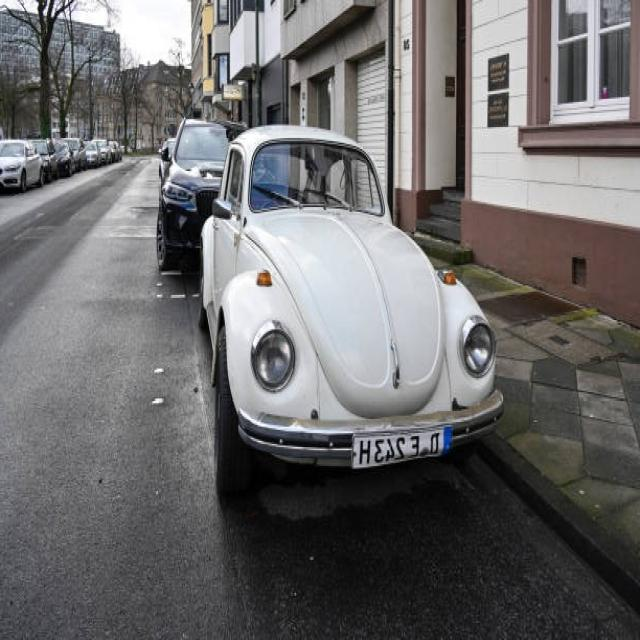car: (206, 123, 500, 481)
